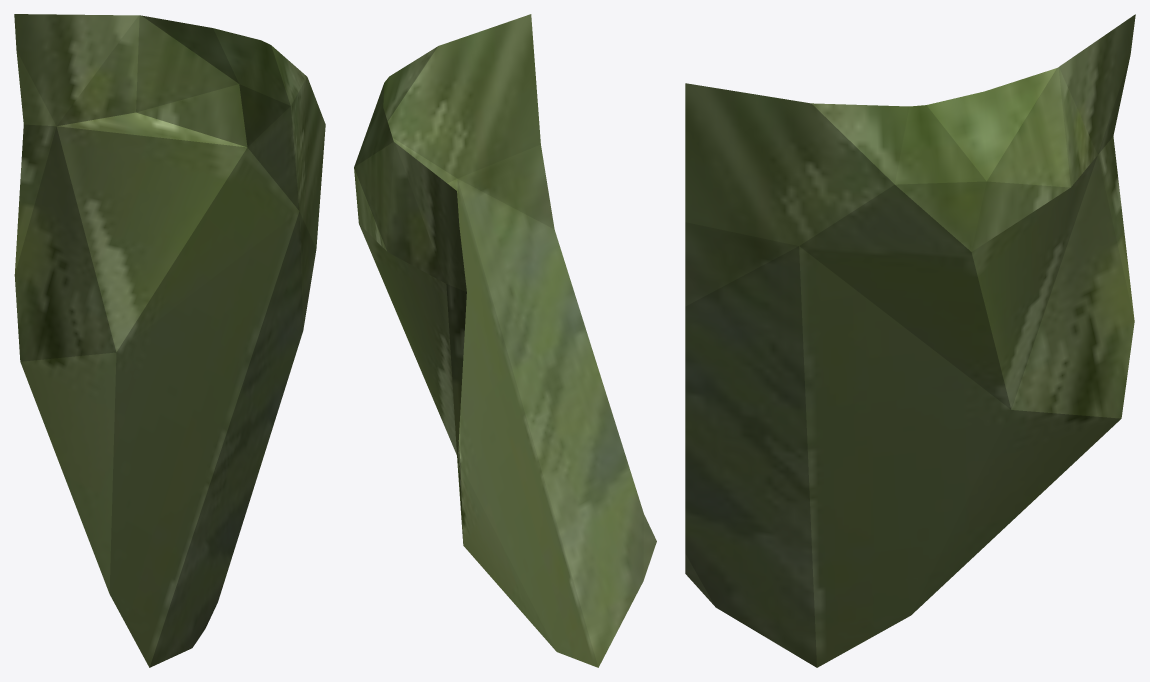
3 views of the same model, side by side, from view 1: azimuth 30°, elevation 25°; view 2: azimuth 150°, elevation 25°; view 3: azimuth 270°, elevation 25° (orthographic). The views are drawn at different scales.
Bounding box in the file's own units: 0.4242 × 1.29 × 0.8059.
1 material, 1 textured.
